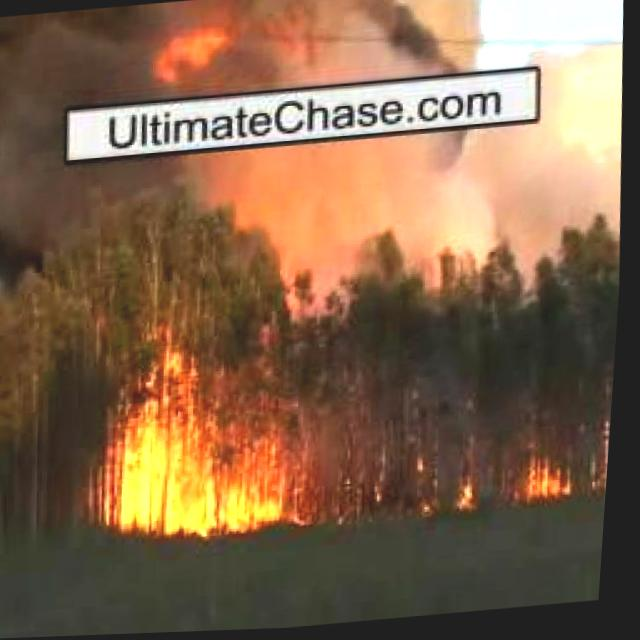Fire: (98, 332, 315, 545), (520, 449, 589, 504), (424, 457, 484, 518)
Smoke: (128, 112, 632, 309), (0, 0, 493, 115)
